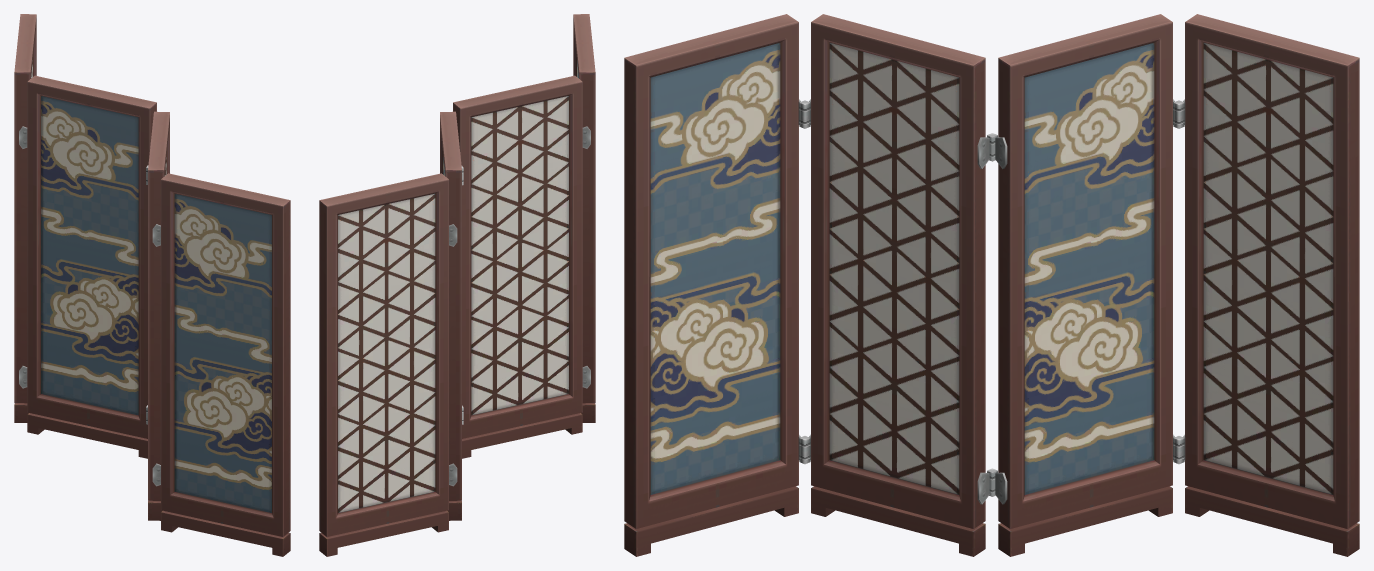
The model's file is my_hyakkiyako_01_holdingscreen_01.glb.
The picture shows the model from 3 angles, left to right: view 1: azimuth 30°, elevation 25°; view 2: azimuth 150°, elevation 25°; view 3: azimuth 270°, elevation 25°; orthographic projection. The views are drawn at different scales.
Parts seen in each view (by area): view 1: my_hyakkiyako_01_holdingscreen_01; view 2: my_hyakkiyako_01_holdingscreen_01; view 3: my_hyakkiyako_01_holdingscreen_01.
Part boxes in pixels (bbox=[...]): my_hyakkiyako_01_holdingscreen_01: bbox=[14, 14, 290, 556]; my_hyakkiyako_01_holdingscreen_01: bbox=[319, 14, 595, 556]; my_hyakkiyako_01_holdingscreen_01: bbox=[624, 14, 1359, 556].
Bounding box in the file's own units: 0.0029 × 0.0128 × 0.0174.
Materials: 1 (1 with a texture image).
